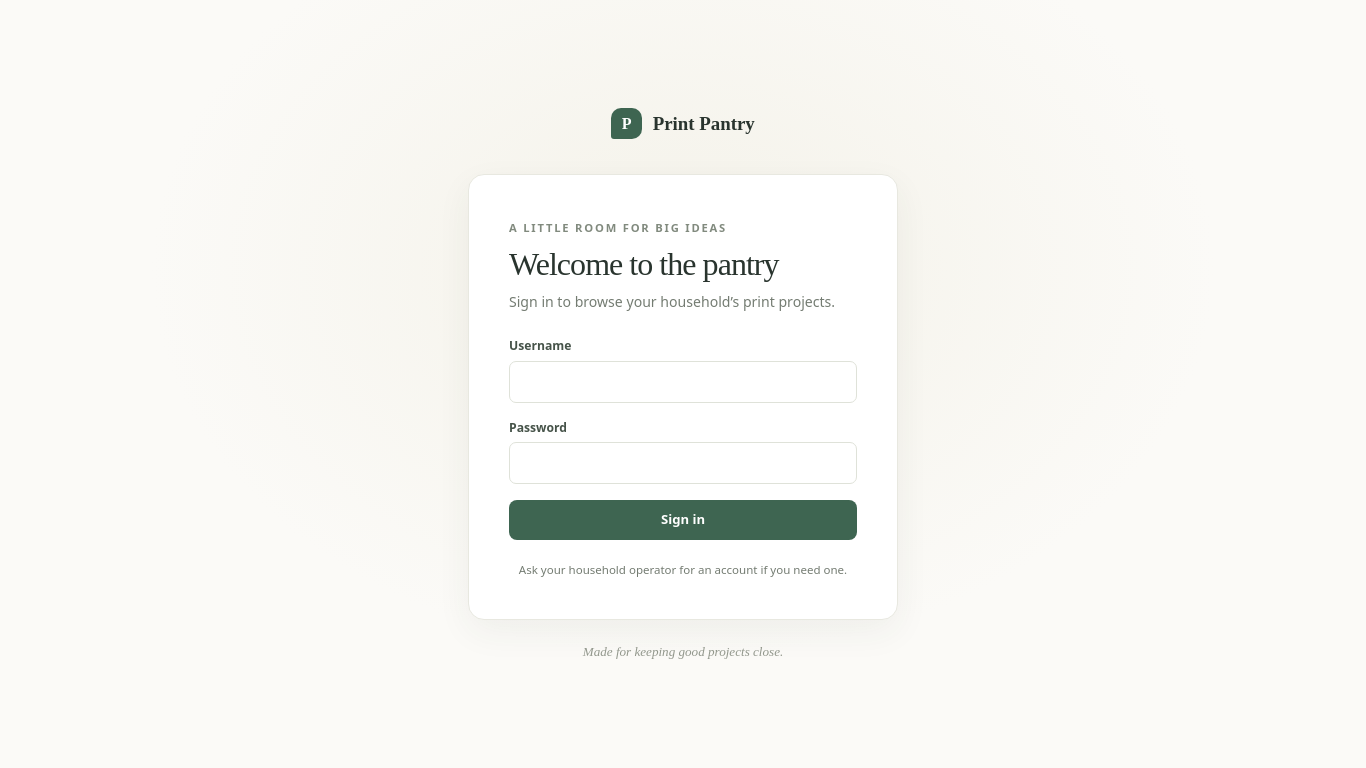
Test case: blocks direct library-management navigation for requesters without sending operator API requests
Expected: the heading "Welcome to the pantry" is shown, [509,246,779,282]
Type "maker" into the field labelled "Username".
click(683, 382); type("maker")  # box [509,361,857,403]
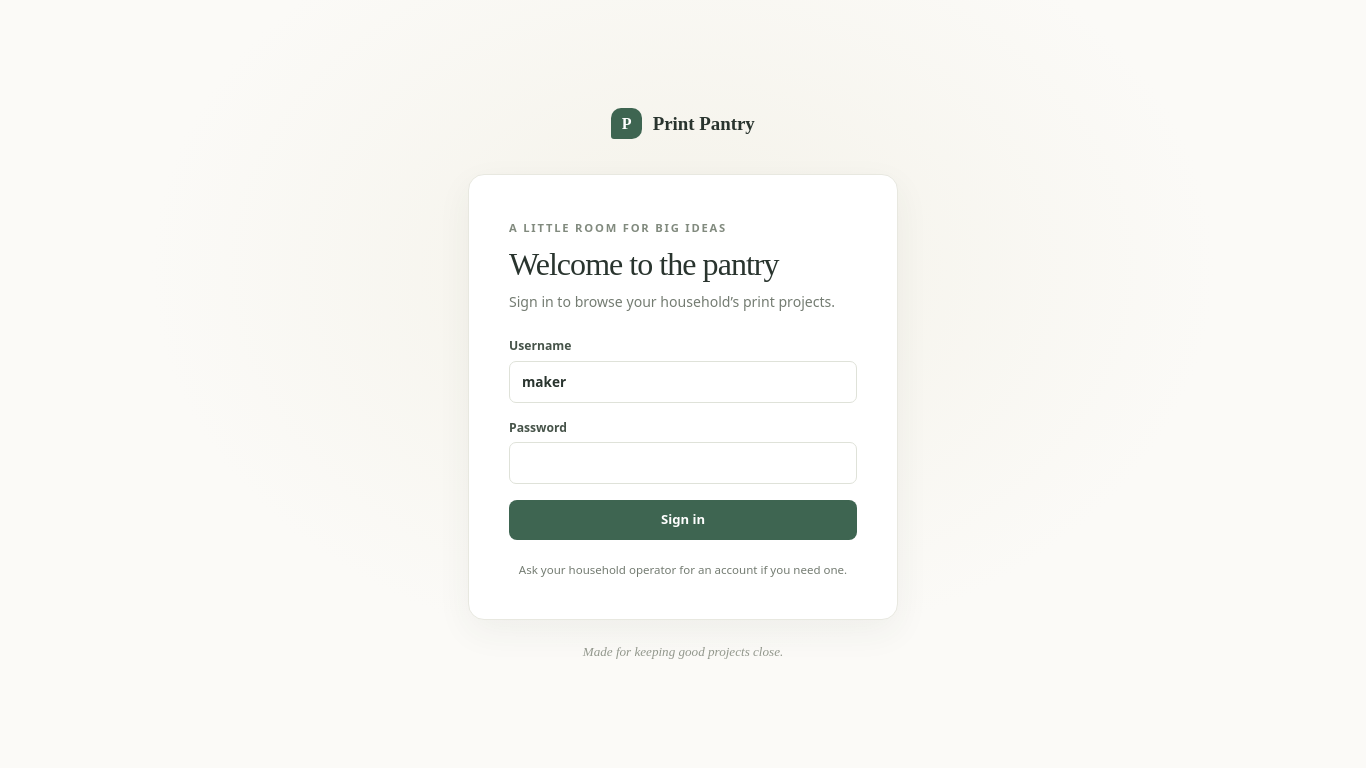
Type "pantry-pass" into the password field labelled "Password".
click(683, 463); type("pantry-pass")  # box [509,442,857,484]
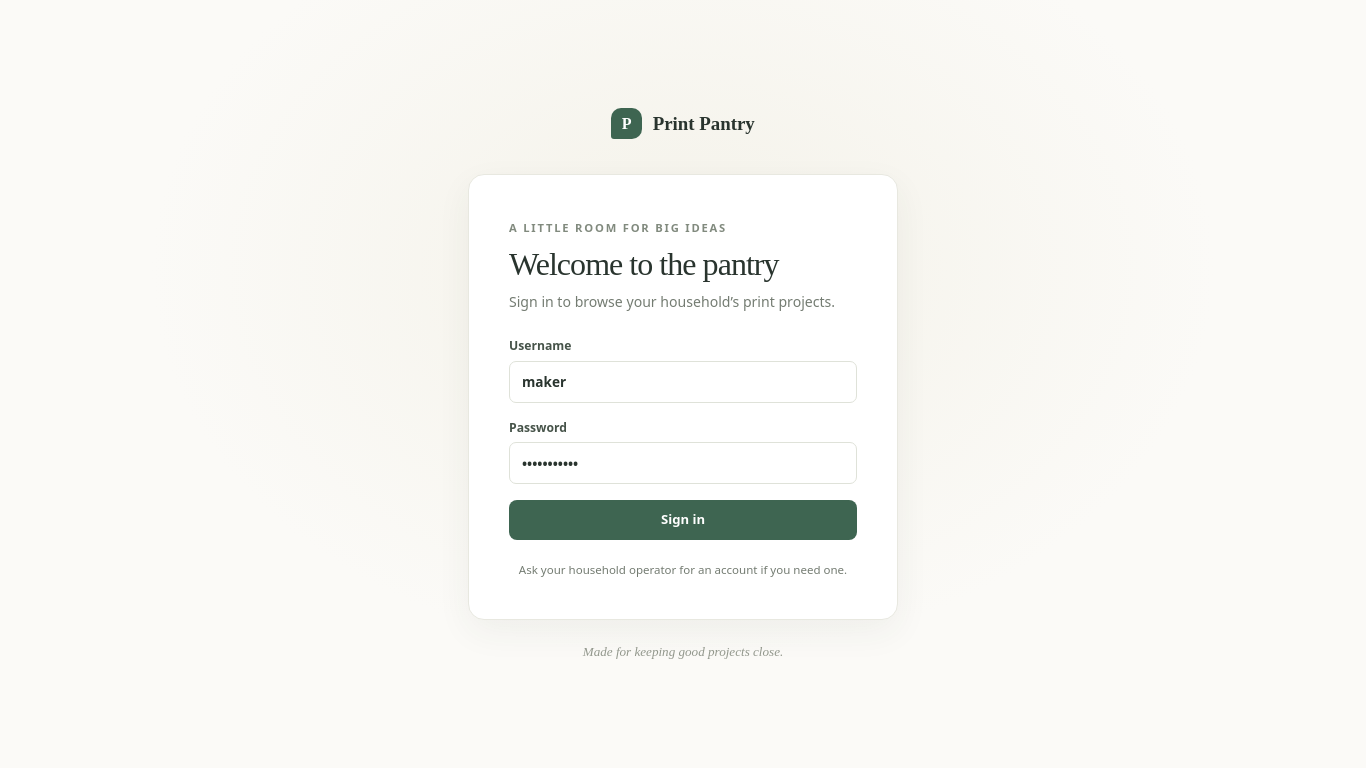
Click the button "Sign in".
click(683, 520)  # box [509,500,857,540]
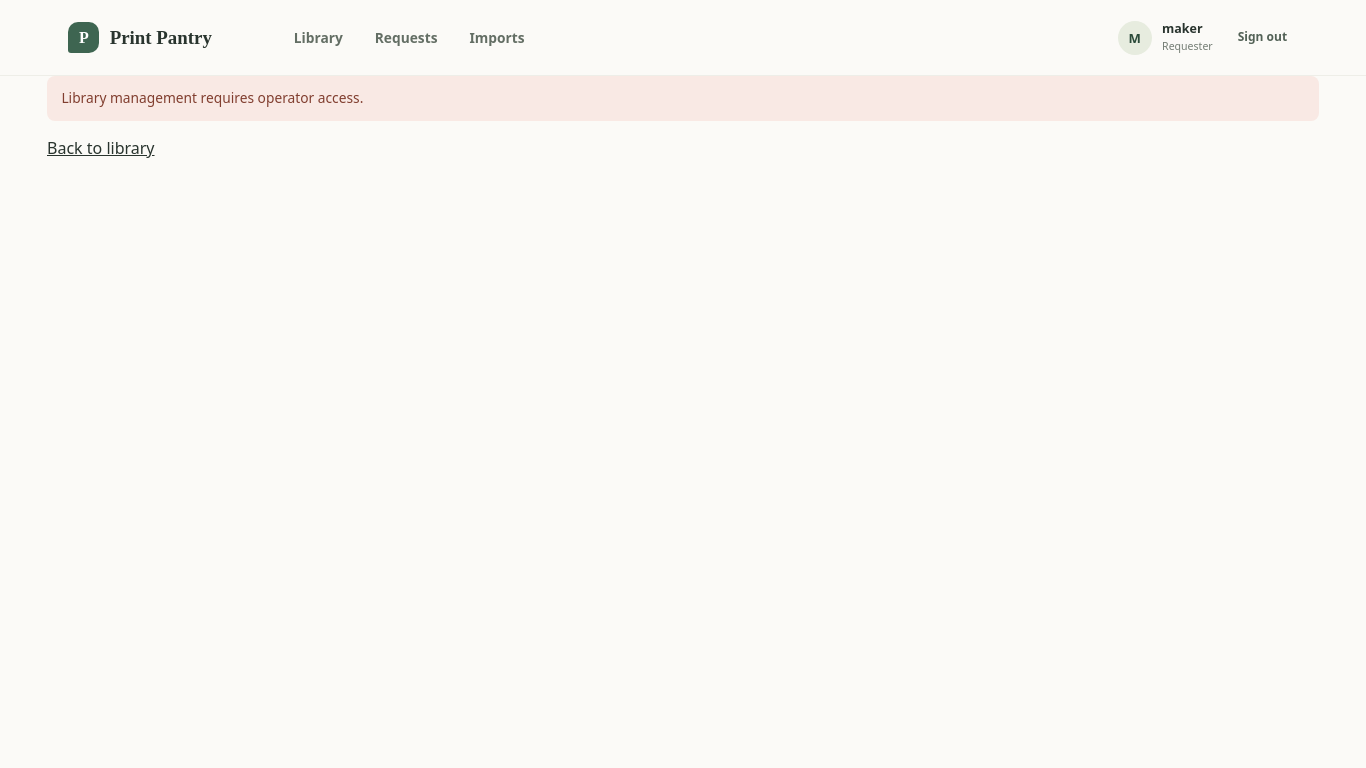
Expected: the message shows "requires operator access", [61,88,363,107]
